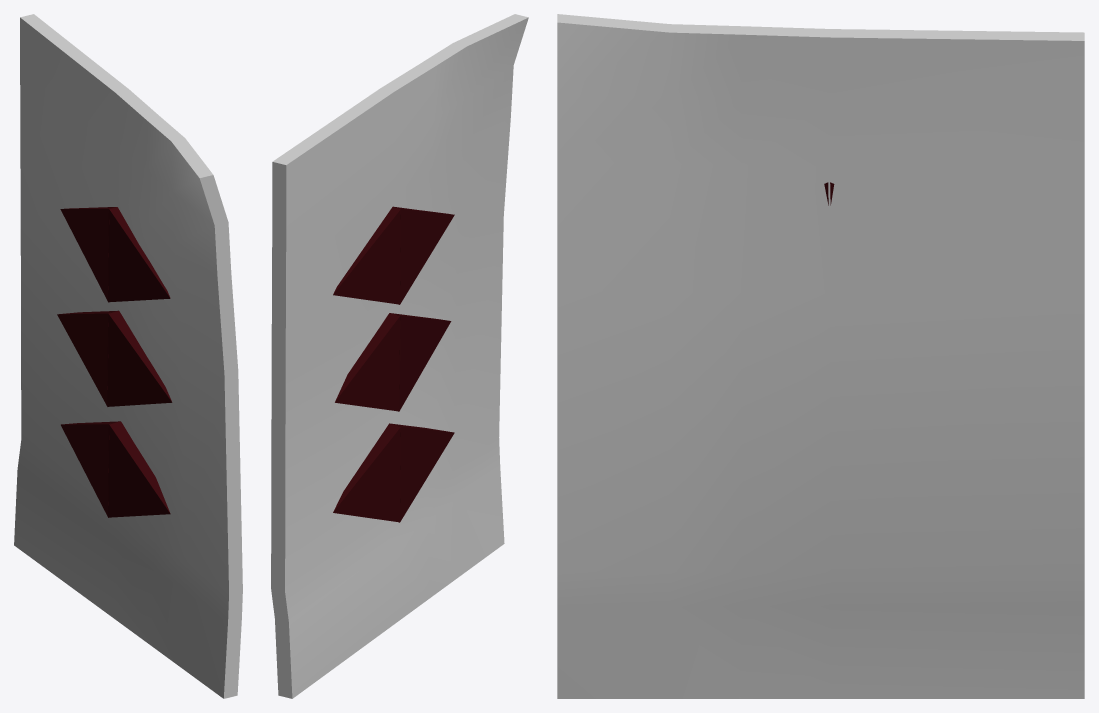
File: pecado5.fbx
3 renders of one model, left to right at view 1: azimuth 30°, elevation 25°; view 2: azimuth 150°, elevation 25°; view 3: azimuth 270°, elevation 25°, orthographic. The views are drawn at different scales.
Parts seen in each view (by area): view 1: Box001, Pyramid008, Pyramid004, Pyramid006, Pyramid005, Pyramid009, Pyramid007; view 2: Box001, Pyramid009, Pyramid005, Pyramid007, Pyramid008, Pyramid006, Pyramid004; view 3: Box001.
Part boxes in pixels (left/top/right/bottom): Box001: left=14, top=14, right=242, bottom=698; Pyramid008: left=108, top=421, right=170, bottom=517; Pyramid004: left=107, top=311, right=172, bottom=406; Pyramid006: left=108, top=207, right=170, bottom=302; Pyramid005: left=57, top=310, right=118, bottom=406; Pyramid009: left=61, top=421, right=120, bottom=517; Pyramid007: left=60, top=207, right=115, bottom=301; Box001: left=271, top=14, right=528, bottom=698; Pyramid009: left=333, top=423, right=401, bottom=522; Pyramid005: left=335, top=313, right=400, bottom=411; Pyramid007: left=333, top=207, right=401, bottom=304; Pyramid008: left=389, top=423, right=454, bottom=522; Pyramid006: left=393, top=206, right=454, bottom=304; Pyramid004: left=390, top=313, right=451, bottom=411; Box001: left=557, top=14, right=1084, bottom=698.
Size of the model in its own units: 1.71 by 18.99 by 13.72.
